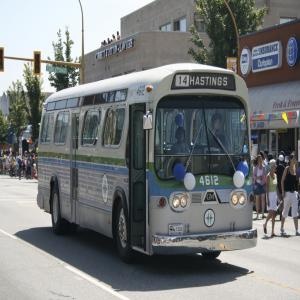Vehicle-registration-plate: (169, 224, 184, 236)
